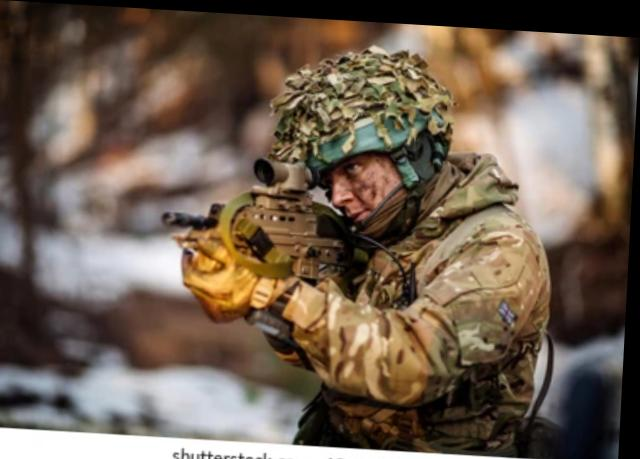other: (212, 61, 553, 431)
